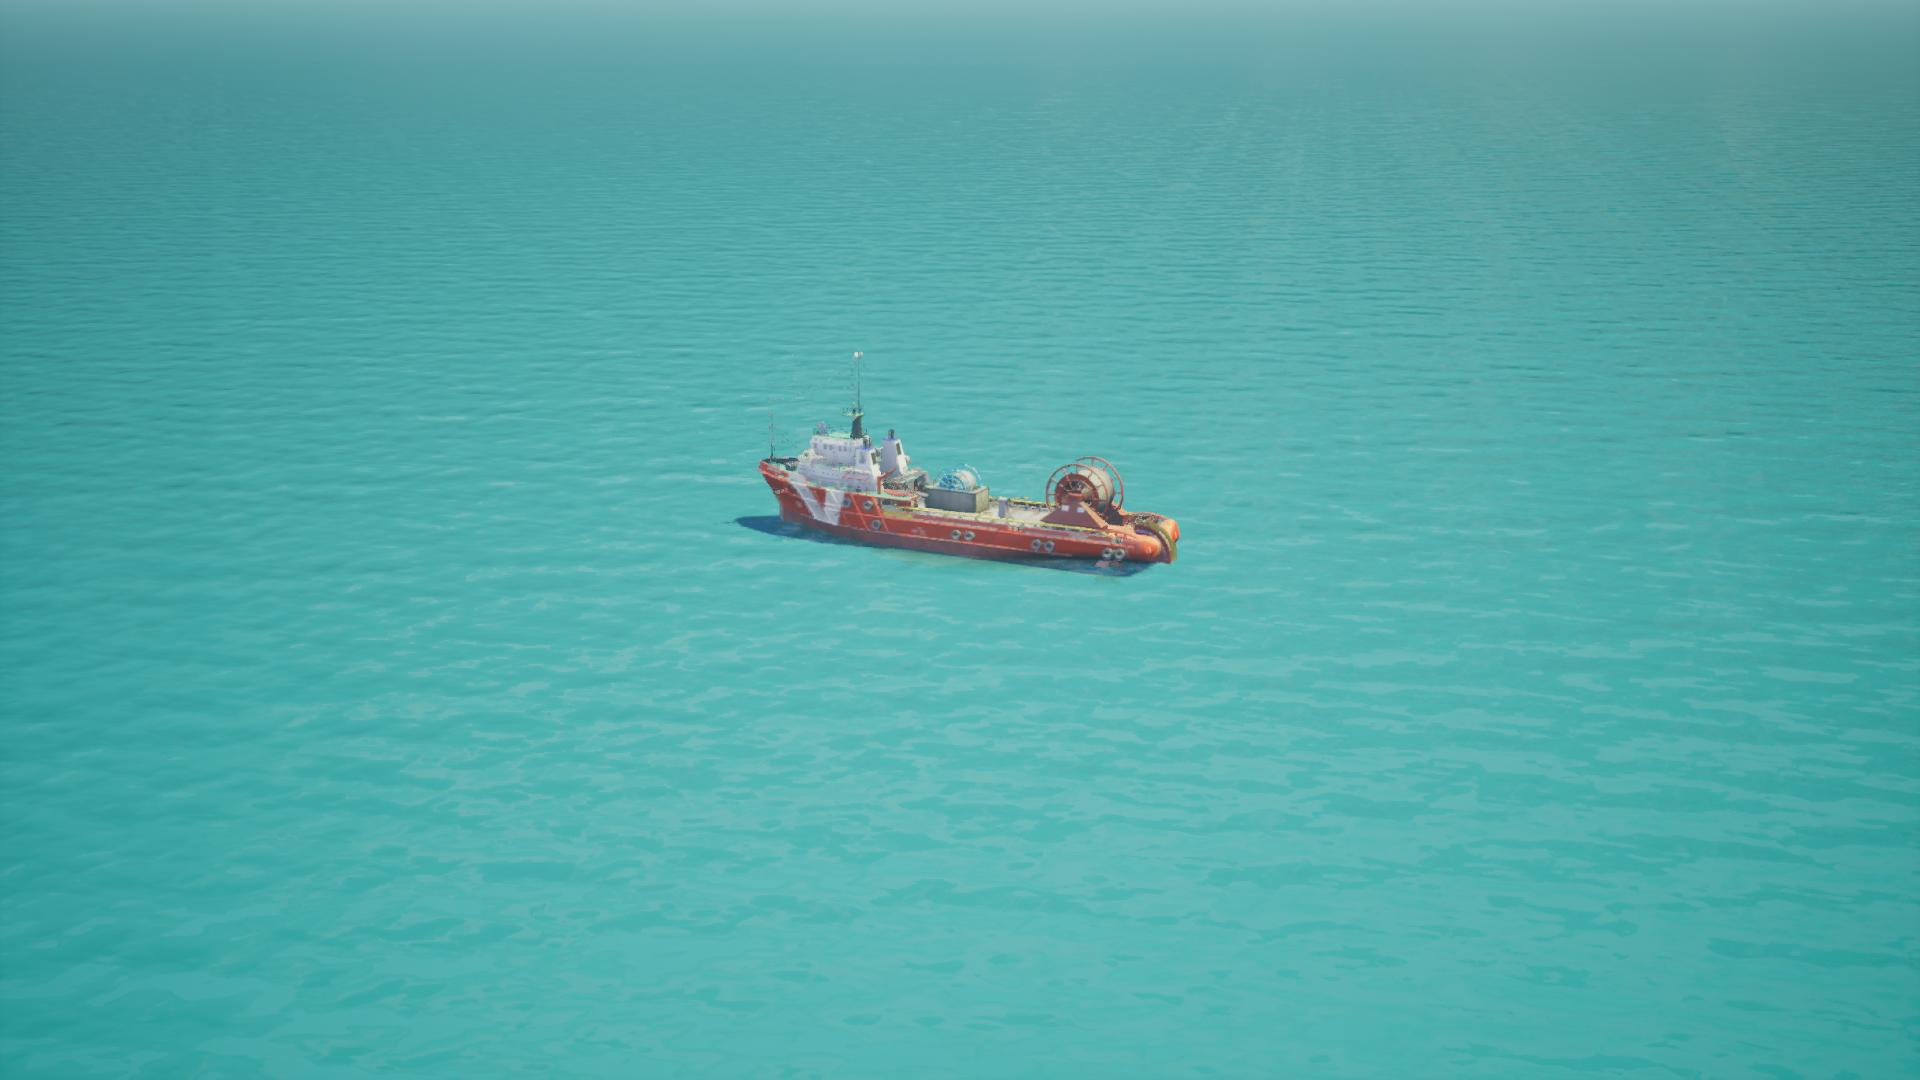Tug Boat: (740, 345, 1184, 582)
